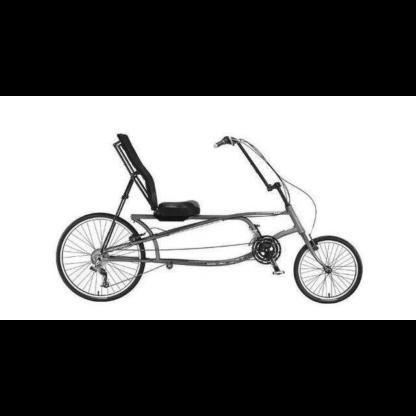Bicycle: (47, 110, 373, 313)
